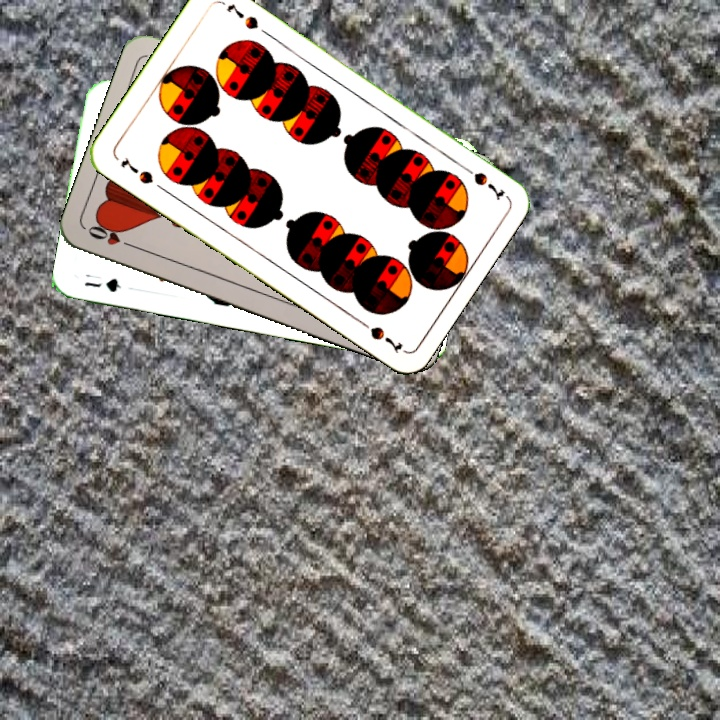GU: (80, 274, 124, 295)
HO: (83, 220, 140, 252)
S7: (456, 161, 507, 203), (117, 154, 156, 187)
